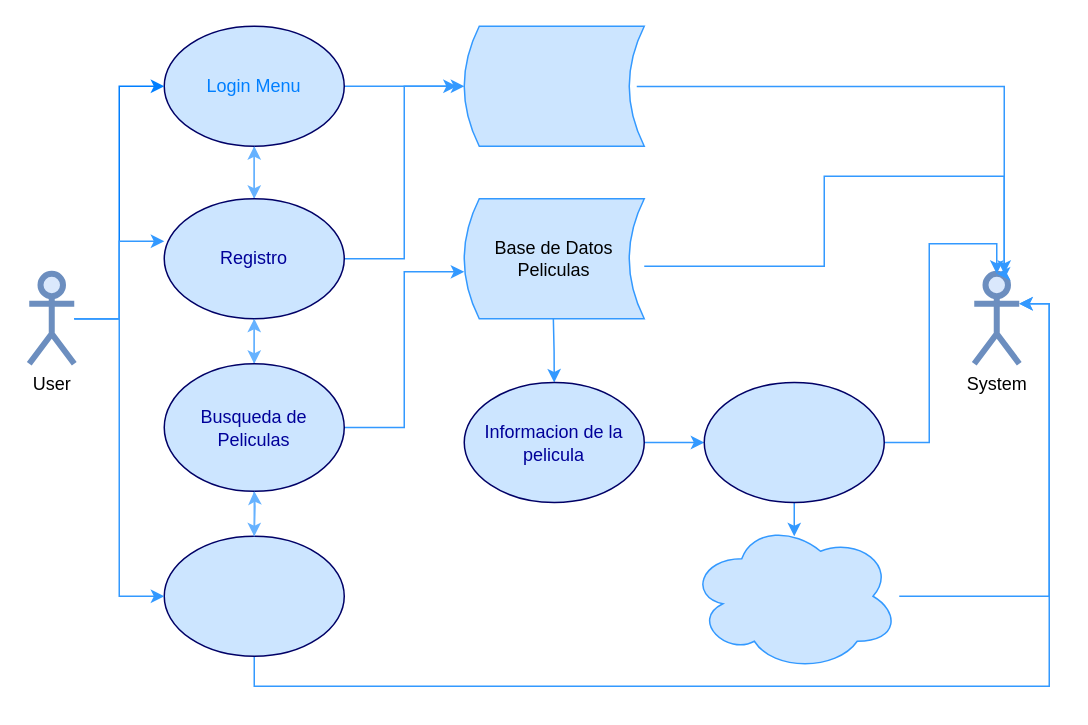
Some shapes in this 1088 by 725 pixel diagram are drawn without their labels. Here are the shapes that lost their labels. From the top down, the centre of each, then its label:
At (x=553, y=85): "Base de Datos Usuarios".
At (x=793, y=441): "API Externa - Link Trailer".
At (x=253, y=595): "Sobre Nosotros".
At (x=793, y=595): "Youtube API".
